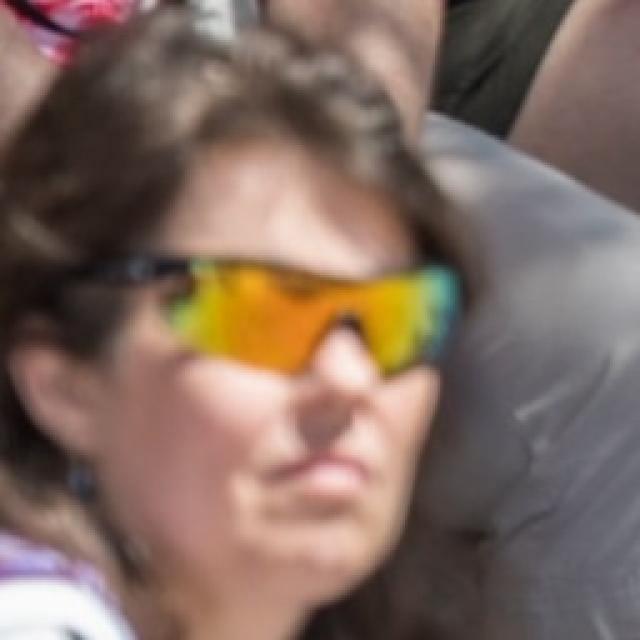glasses: (126, 233, 501, 383)
